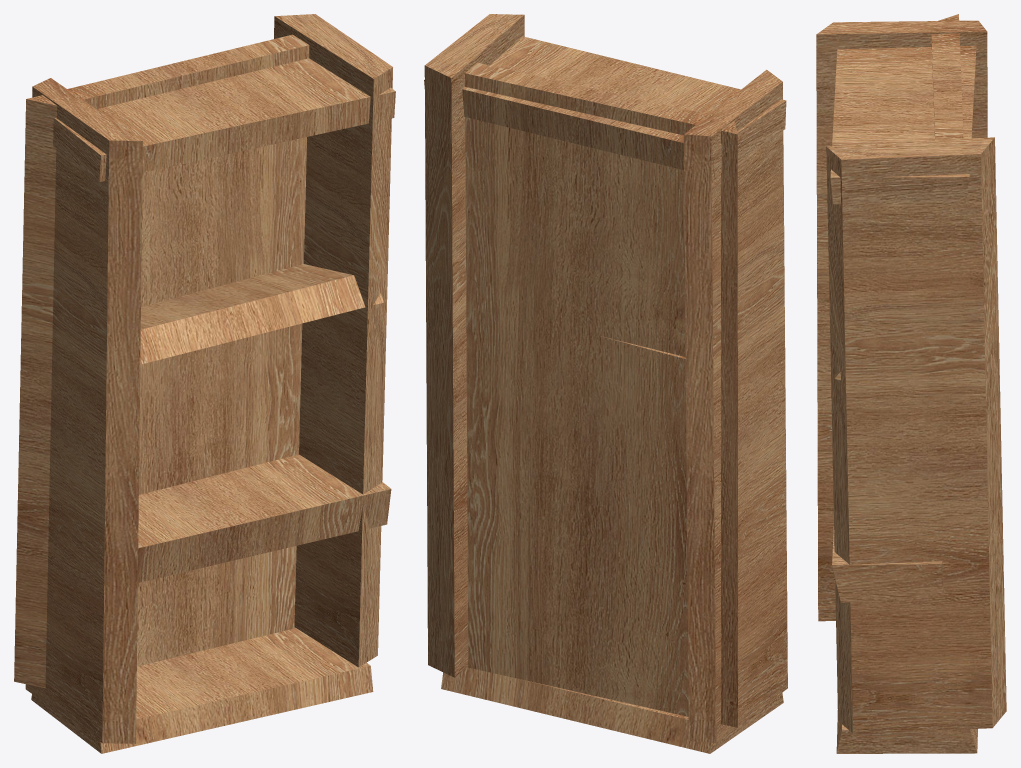
Rendered from 46586_ours.glb.
3 views of the same model, side by side, from view 1: azimuth 30°, elevation 25°; view 2: azimuth 150°, elevation 25°; view 3: azimuth 270°, elevation 25° (orthographic). The views are drawn at different scales.
Parts seen in each view (by area): view 1: ParentEmpty; view 2: ParentEmpty; view 3: ParentEmpty.
Boxes of the visible parts, x1,y1,x2,y2 form: ParentEmpty: [14, 14, 395, 753]; ParentEmpty: [424, 14, 787, 753]; ParentEmpty: [816, 14, 1006, 753].
Size of the model in its own units: 0.5278 by 1 by 0.2837.
Materials: 1 (1 with a texture image).
